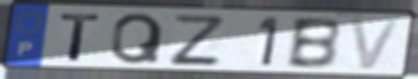1: (256, 16, 280, 68)
B: (284, 16, 344, 71)
Q: (109, 11, 166, 66)
T: (58, 12, 105, 63)
V: (347, 16, 404, 71)
Z: (168, 12, 224, 67)
